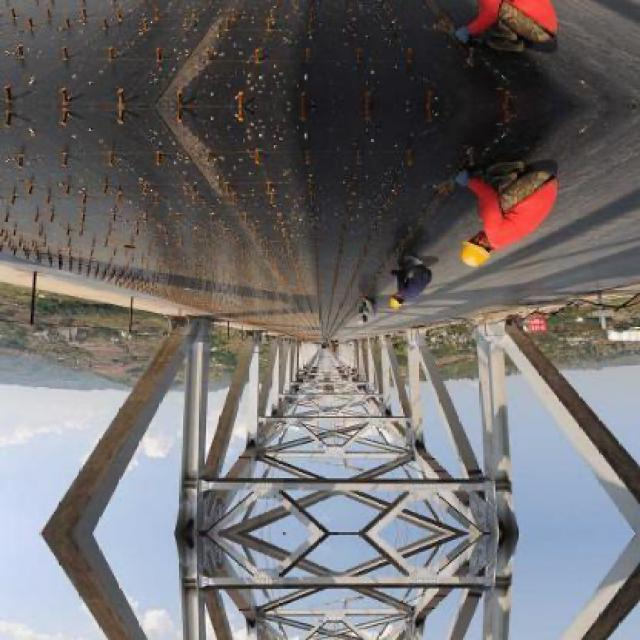con casco: (422, 207, 508, 266), (368, 271, 428, 317)
